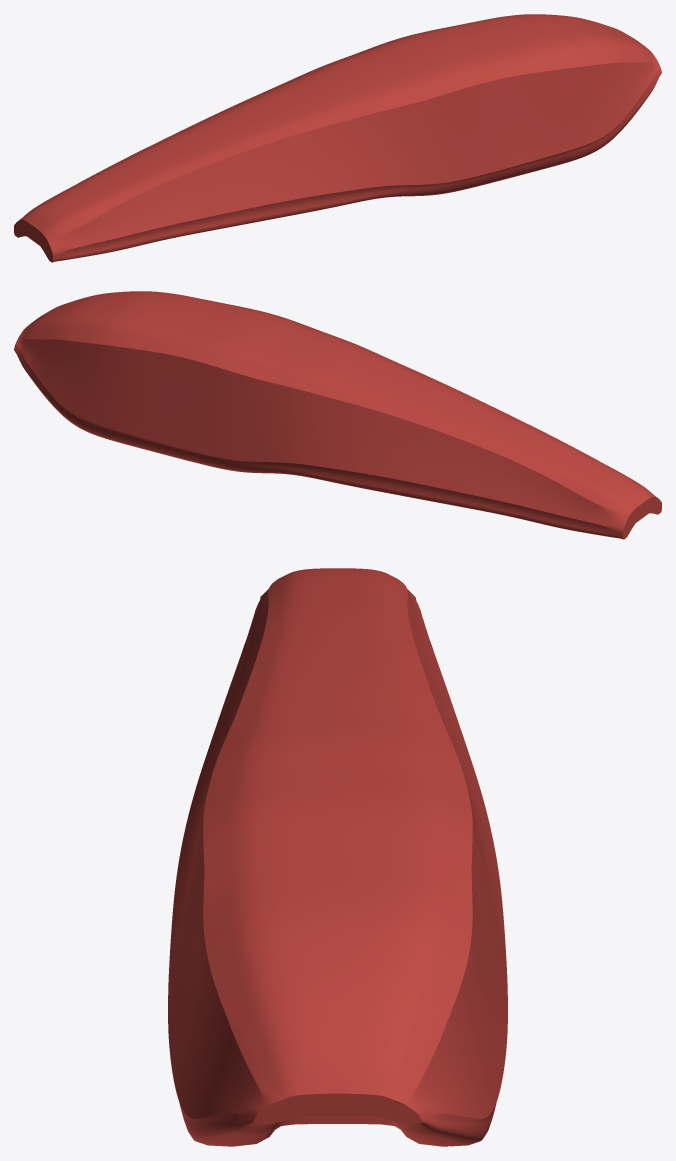
Rendered from bobber_5.glb.
3 views of the same model, one above another, from view 1: azimuth 30°, elevation 25°; view 2: azimuth 150°, elevation 25°; view 3: azimuth 270°, elevation 25° (orthographic). The views are drawn at different scales.
Visible parts, largest first — view 1: bobber_5; view 2: bobber_5; view 3: bobber_5.
Boxes of the visible parts, bbox=[...] form: bobber_5: bbox=[14, 14, 661, 262]; bobber_5: bbox=[14, 291, 661, 539]; bobber_5: bbox=[168, 568, 507, 1146].
Size of the model in its own units: 1.06 by 0.1868 by 0.258.
